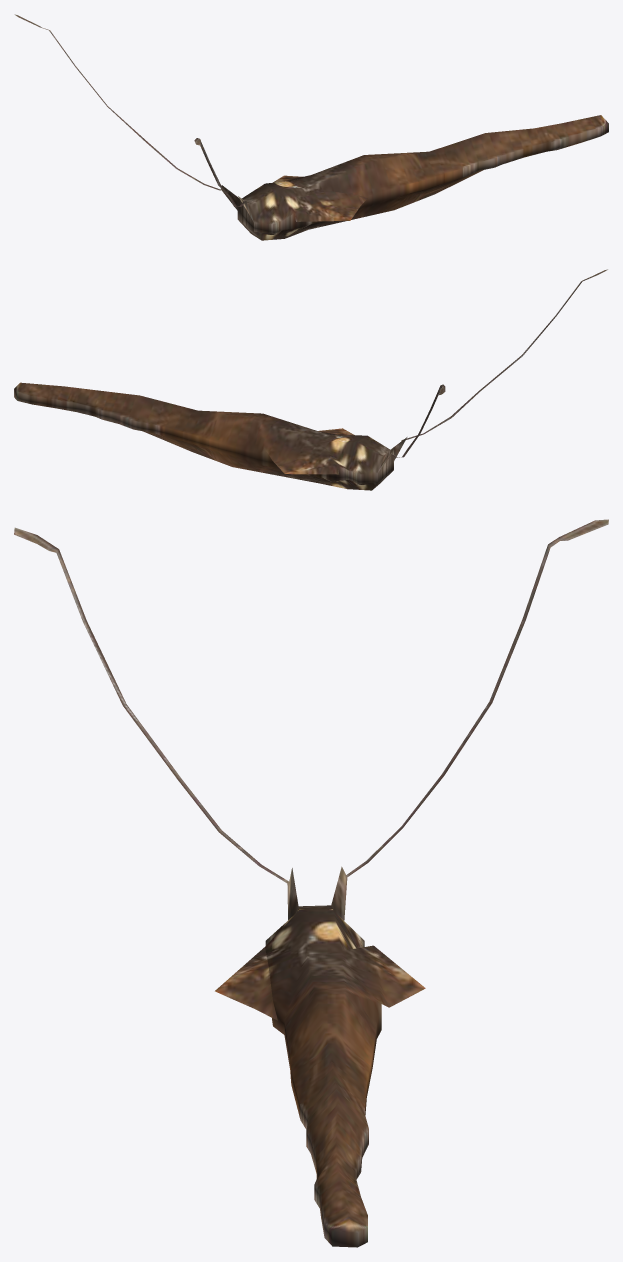
Rendered from Cuerpo_mariposa.obj.
3 views of the same model, one above another, from view 1: azimuth 30°, elevation 25°; view 2: azimuth 150°, elevation 25°; view 3: azimuth 270°, elevation 25° (orthographic). The views are drawn at different scales.
Visible parts, largest first — view 1: Cuerpo_mariposa; view 2: Cuerpo_mariposa; view 3: Cuerpo_mariposa.
Part boxes in pixels (<box>): Cuerpo_mariposa: <box>14,14,608,240</box>; Cuerpo_mariposa: <box>14,269,607,490</box>; Cuerpo_mariposa: <box>14,519,608,1247</box>.
Size of the model in its own units: 0.0913 by 0.0345 by 0.0545.
Materials: 1 (1 with a texture image).
